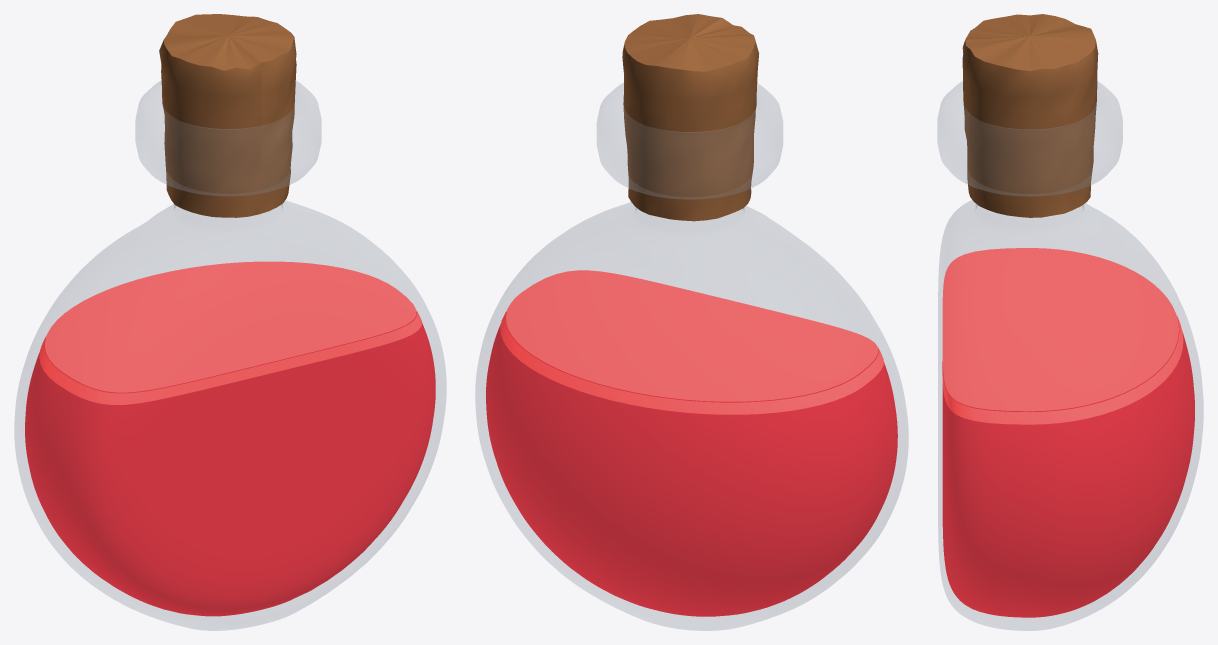
File: 11-potion.glb
3 views of the same model, side by side, from view 1: azimuth 30°, elevation 25°; view 2: azimuth 150°, elevation 25°; view 3: azimuth 270°, elevation 25° (orthographic).
Parts seen in each view (by area): view 1: Glass, Liquid, LiquidSurface, Cork, Meniscus; view 2: Glass, Liquid, LiquidSurface, Cork, Meniscus; view 3: Glass, Liquid, LiquidSurface, Cork, Meniscus.
Boxes of the visible parts, <box> form: Glass: <box>14,81,446,630</box>; Liquid: <box>25,311,435,616</box>; LiquidSurface: <box>45,261,416,392</box>; Cork: <box>159,14,296,217</box>; Meniscus: <box>39,307,421,404</box>; Glass: <box>475,83,908,630</box>; Liquid: <box>486,311,897,616</box>; LiquidSurface: <box>506,270,878,401</box>; Cork: <box>622,14,759,221</box>; Meniscus: <box>500,306,883,414</box>; Glass: <box>937,81,1203,630</box>; Liquid: <box>942,317,1194,617</box>; LiquidSurface: <box>942,248,1178,411</box>; Cork: <box>962,14,1098,217</box>; Meniscus: <box>942,316,1183,424</box>.
Size of the model in its own units: 0.636 by 0.8796 by 0.376.
